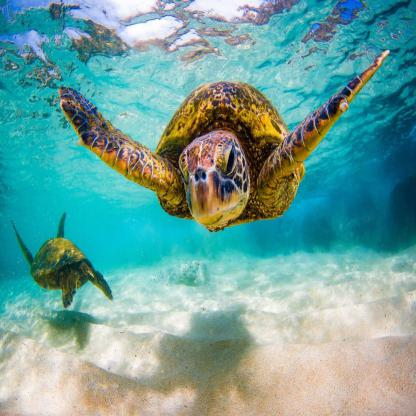turtle: (173, 125, 253, 237), (78, 257, 99, 290)
